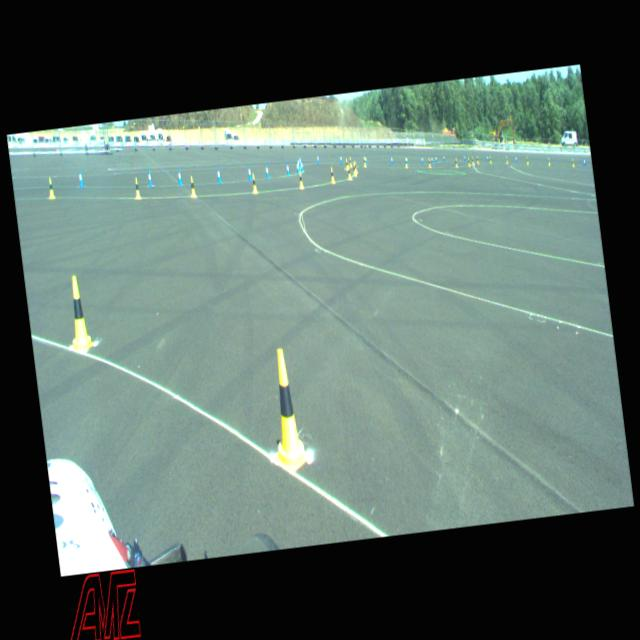blue_cone: (78, 169, 84, 187), (176, 168, 182, 185), (246, 164, 252, 180), (147, 168, 152, 185), (216, 166, 221, 182), (264, 164, 269, 178), (286, 162, 290, 176), (295, 160, 299, 173), (300, 159, 304, 171), (296, 158, 300, 168), (298, 155, 302, 165), (390, 154, 393, 164), (364, 154, 367, 164), (582, 158, 586, 165), (420, 155, 423, 164), (339, 154, 342, 162), (316, 154, 319, 162), (434, 154, 437, 162), (406, 155, 408, 164), (486, 154, 488, 162), (515, 155, 517, 162), (442, 154, 444, 161), (431, 156, 433, 163), (463, 154, 465, 160)
yellow_cone: (262, 347, 308, 471), (64, 275, 94, 352), (46, 177, 55, 199), (250, 172, 258, 192), (188, 176, 196, 196), (134, 178, 140, 198), (298, 170, 304, 188), (346, 166, 352, 179), (352, 162, 357, 175), (353, 160, 358, 173), (330, 166, 334, 182), (404, 156, 408, 168), (348, 156, 352, 167), (454, 158, 458, 167), (345, 158, 348, 170), (363, 156, 366, 167), (467, 157, 470, 166), (471, 156, 474, 164), (571, 158, 574, 166), (428, 157, 430, 167), (548, 157, 550, 165), (476, 156, 478, 163), (506, 156, 508, 163), (526, 156, 528, 163), (489, 156, 491, 162)
